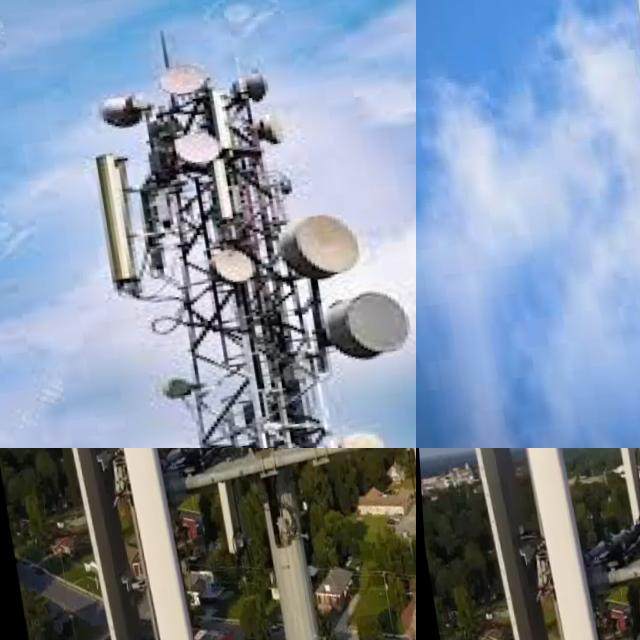GSM Antenna: (64, 448, 151, 640), (467, 448, 552, 640), (515, 448, 595, 640), (114, 448, 193, 640), (80, 150, 154, 298), (177, 448, 251, 565), (603, 448, 640, 640), (204, 155, 239, 237), (621, 0, 640, 142)
Microwave Antenna: (320, 289, 413, 368), (272, 212, 368, 286), (89, 89, 158, 134), (201, 249, 260, 291), (246, 106, 299, 152), (169, 128, 224, 170), (160, 62, 215, 100), (232, 67, 285, 105), (332, 429, 382, 448)
